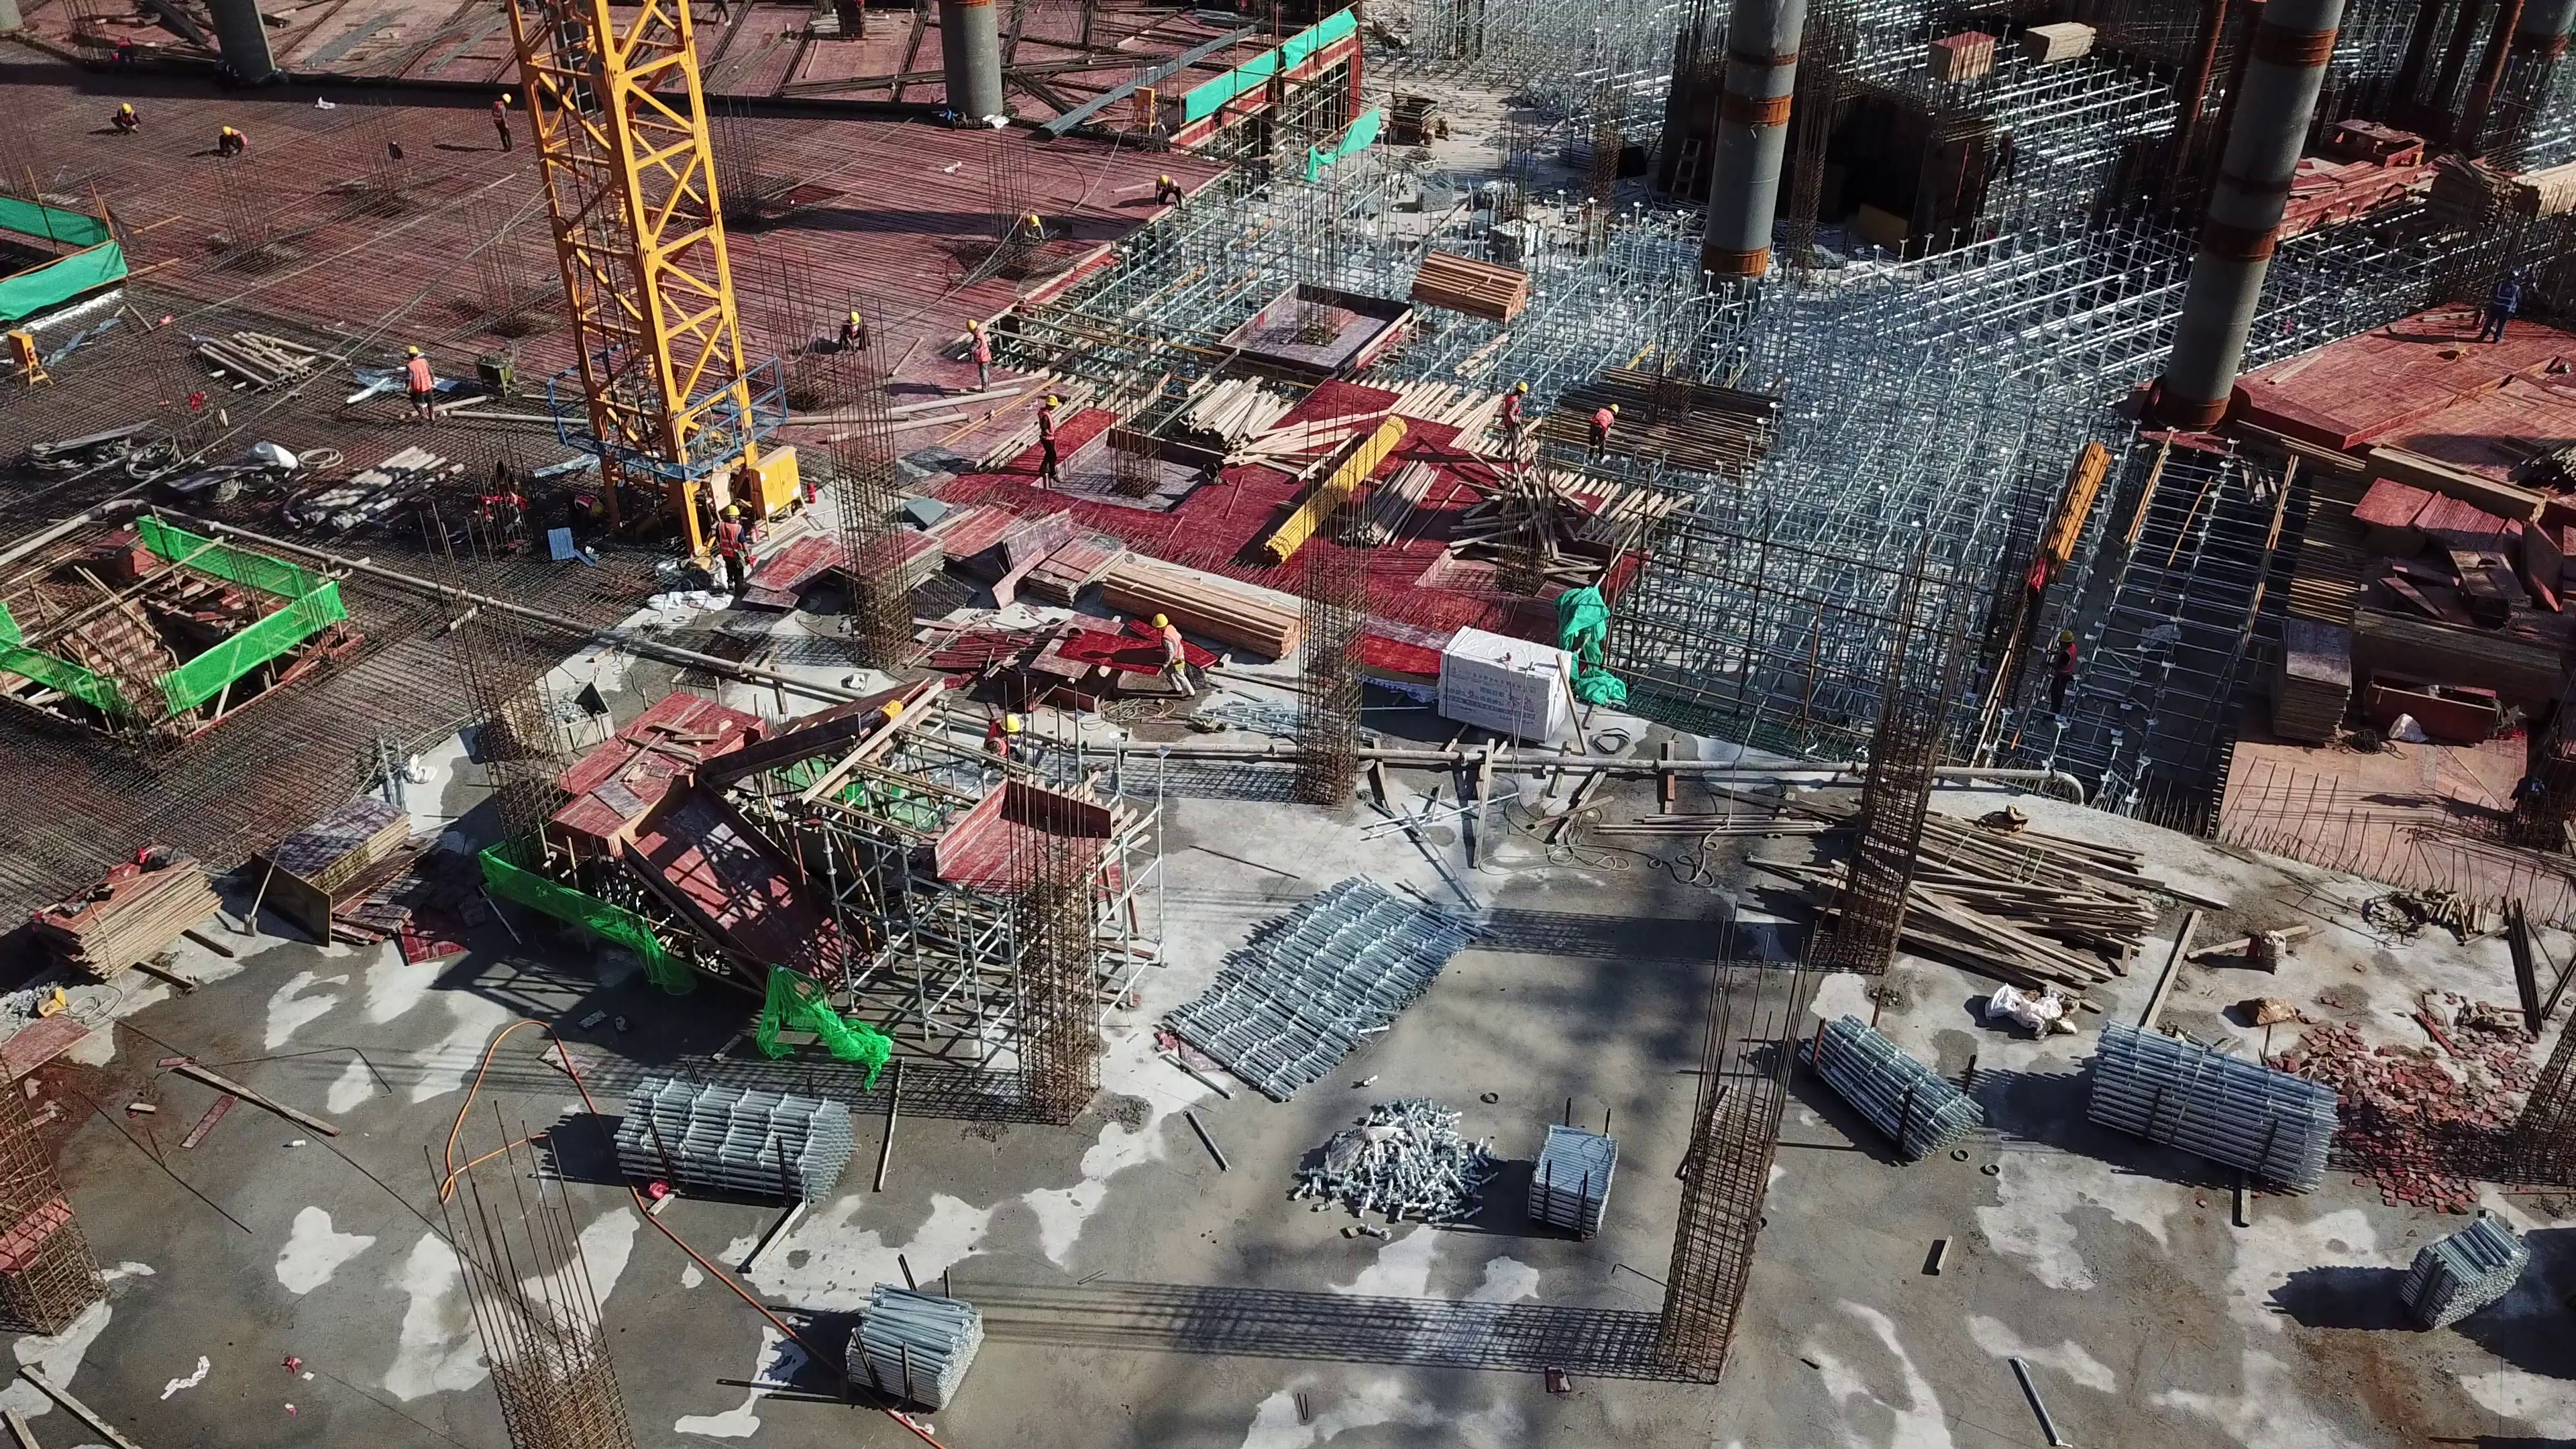board: (256, 788, 417, 952), (44, 844, 219, 978), (2257, 599, 2357, 762), (1920, 19, 1992, 95)
ebox: (741, 448, 795, 531), (5, 317, 42, 384), (1133, 85, 1151, 138)
person: (1149, 599, 1199, 710), (1029, 380, 1073, 502), (2475, 252, 2526, 350), (2018, 543, 2067, 639), (390, 333, 437, 427), (712, 502, 752, 604), (1490, 374, 1528, 465), (2049, 616, 2080, 719), (965, 310, 1000, 394), (1579, 391, 1621, 455), (485, 85, 519, 149), (983, 706, 1017, 765), (214, 118, 250, 164), (836, 309, 867, 350), (111, 97, 142, 136), (1151, 172, 1182, 211)
scaffold: (1201, 890, 1435, 1104), (1286, 1095, 1621, 1244), (2100, 1010, 2327, 1199), (600, 1045, 863, 1205), (1782, 972, 1980, 1159), (851, 1279, 1000, 1409), (2394, 1209, 2526, 1336)
wood: (1750, 774, 2141, 1010), (1093, 543, 1301, 678), (1132, 357, 1327, 482), (1403, 250, 1525, 329), (2015, 19, 2098, 79), (2506, 162, 2576, 222)
